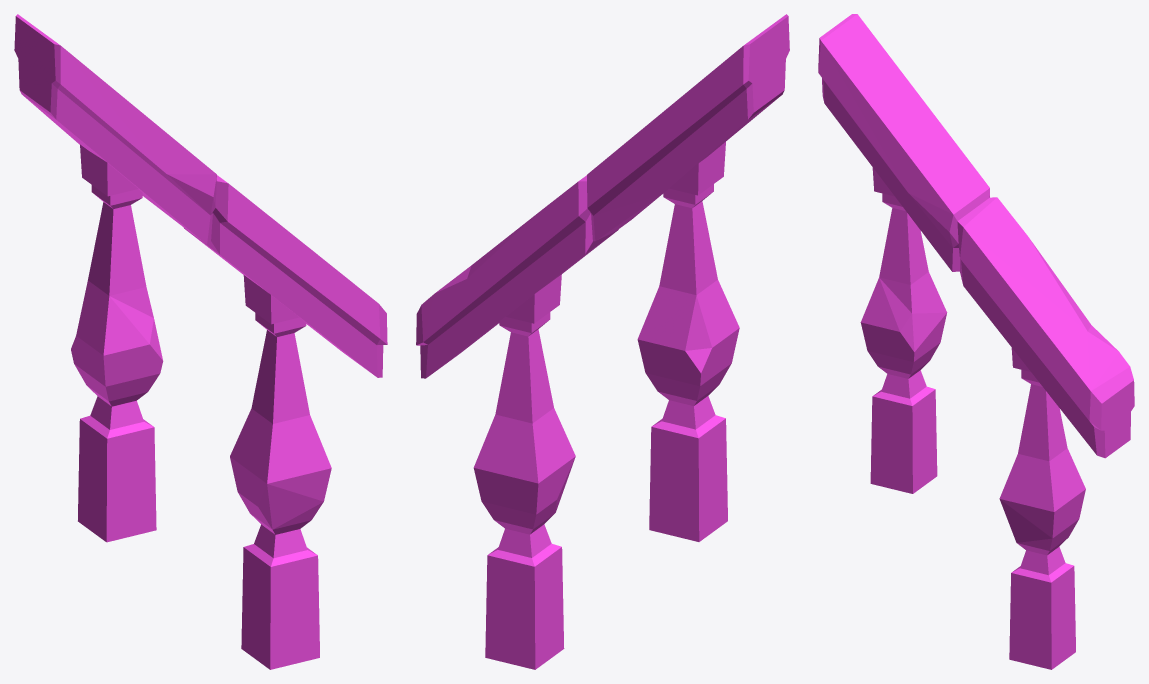
File: SM_Railing_Stone_Stairs_1m_A_Fantasy.fbx
3 views of the same model, side by side, from view 1: azimuth 30°, elevation 25°; view 2: azimuth 150°, elevation 25°; view 3: azimuth 330°, elevation 25° (orthographic). The views are drawn at different scales.
Visible parts, largest first — view 1: SM_Railing_Stone_Stairs_1m_A_Fantasy; view 2: SM_Railing_Stone_Stairs_1m_A_Fantasy; view 3: SM_Railing_Stone_Stairs_1m_A_Fantasy.
Boxes of the visible parts, box(x1,y1,x2,y2) form: SM_Railing_Stone_Stairs_1m_A_Fantasy: box(14, 14, 387, 669); SM_Railing_Stone_Stairs_1m_A_Fantasy: box(416, 14, 789, 669); SM_Railing_Stone_Stairs_1m_A_Fantasy: box(818, 14, 1134, 669).
Bounding box in the file's own units: 1 × 1.96 × 0.24.
